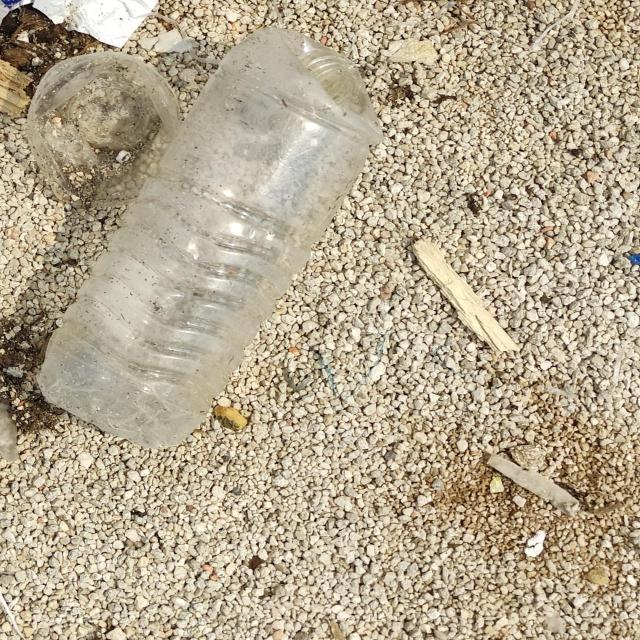plastic_waste: (35, 27, 389, 454)
